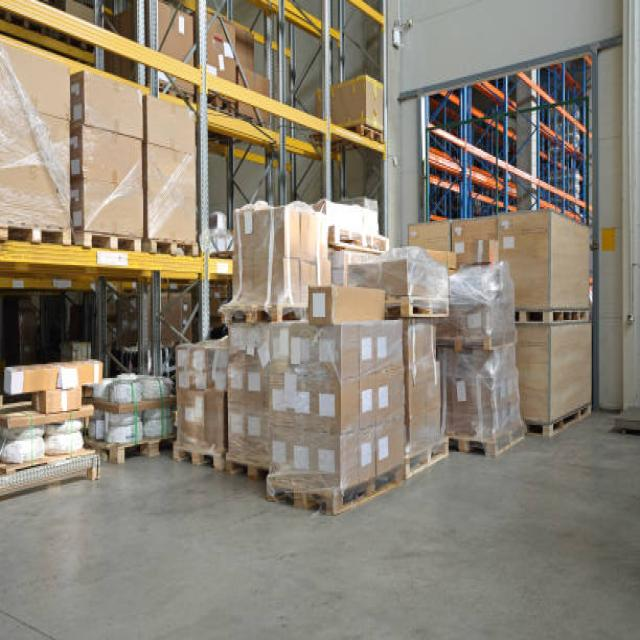Wooden-Pallets: (260, 459, 407, 529), (0, 215, 79, 255), (164, 438, 222, 488), (401, 428, 453, 479), (70, 227, 145, 260)
